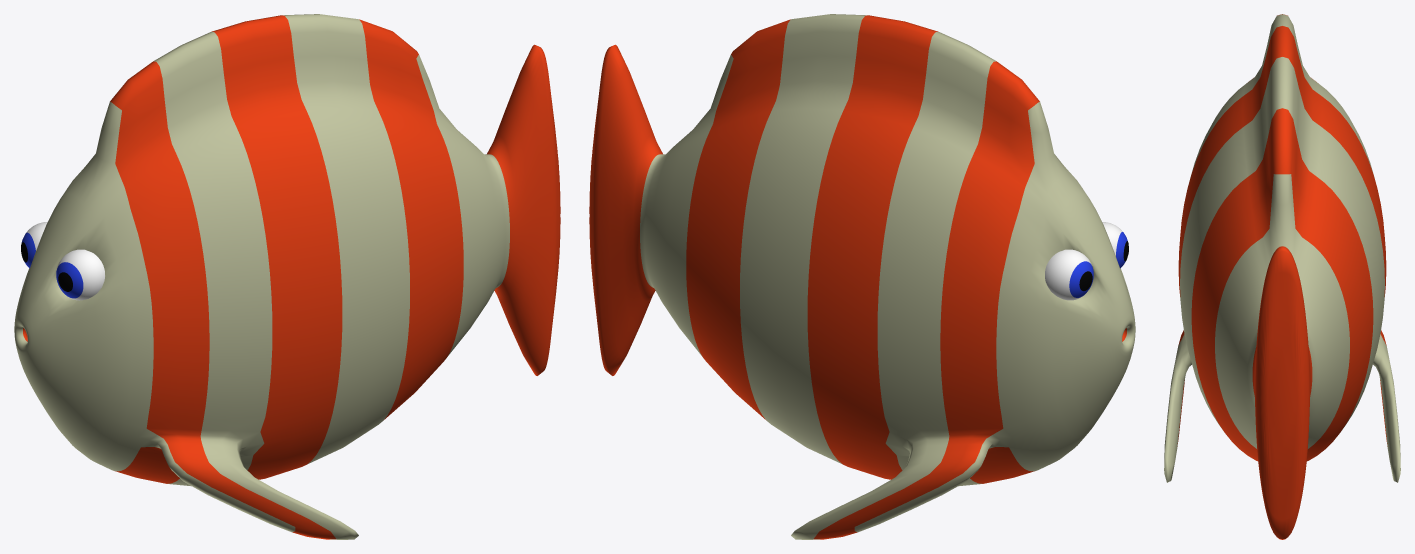
The picture shows the model from 3 angles, left to right: view 1: azimuth 30°, elevation 25°; view 2: azimuth 150°, elevation 25°; view 3: azimuth 270°, elevation 25°; orthographic projection. The views are drawn at different scales.
Parts seen in each view (by area): view 1: Circle; view 2: Circle; view 3: Circle.
Part boxes in pixels (<box>): Circle: <box>14,14,560,539</box>; Circle: <box>589,14,1135,539</box>; Circle: <box>1164,14,1400,539</box>.
Bounding box in the file's own units: 28.93 × 25.04 × 12.58.
